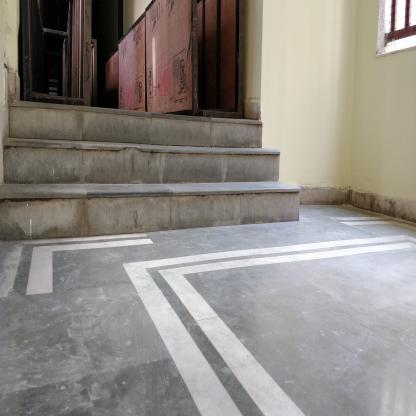stairs: (20, 113, 257, 239)
